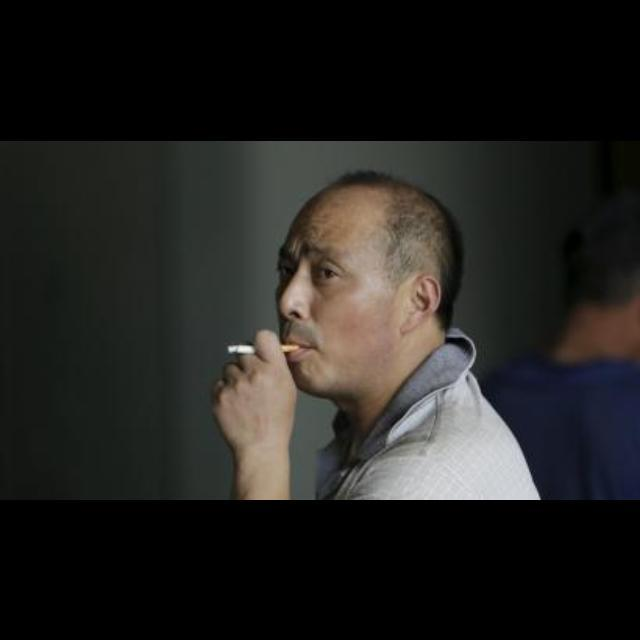rokok: (222, 336, 304, 356)
